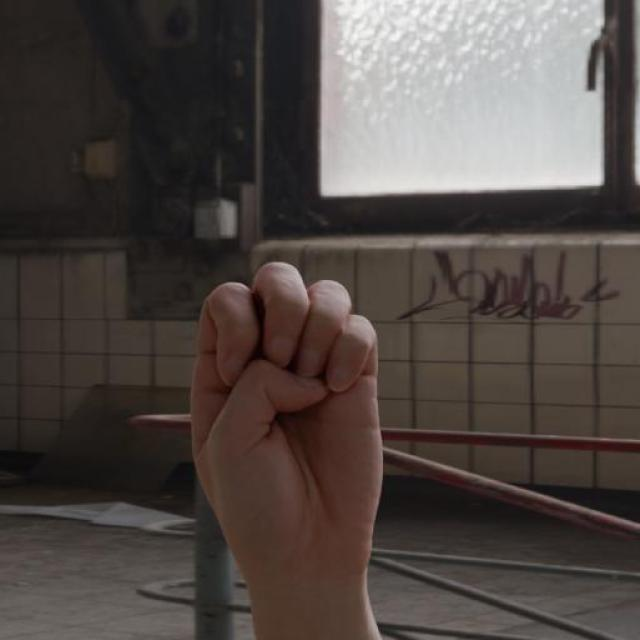E: (188, 255, 390, 583)
